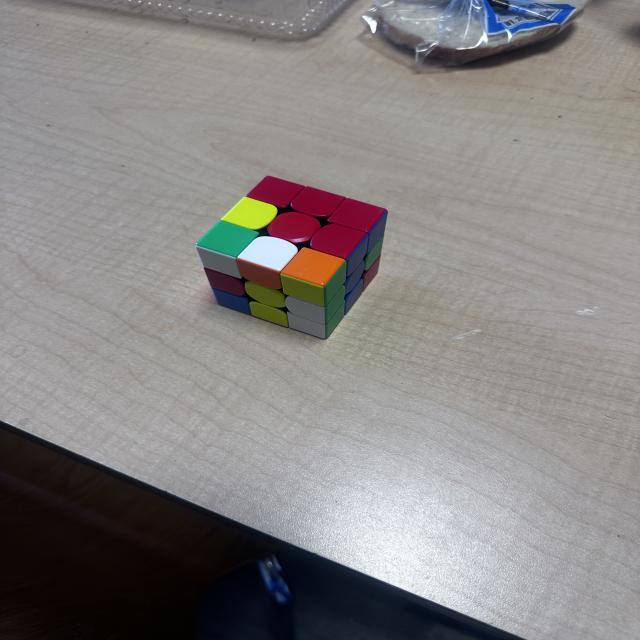sticker: (278, 247, 348, 306), (195, 220, 261, 280), (234, 233, 300, 290), (310, 224, 369, 278), (284, 282, 346, 324), (327, 197, 388, 236), (246, 174, 305, 210), (220, 196, 280, 231), (290, 185, 348, 220), (266, 211, 321, 245), (236, 257, 285, 292), (286, 309, 339, 340), (204, 268, 248, 297), (244, 281, 288, 309), (212, 288, 254, 316), (249, 300, 290, 328), (364, 215, 387, 255), (344, 263, 366, 299), (364, 232, 384, 271), (344, 279, 364, 316), (363, 255, 380, 289)
